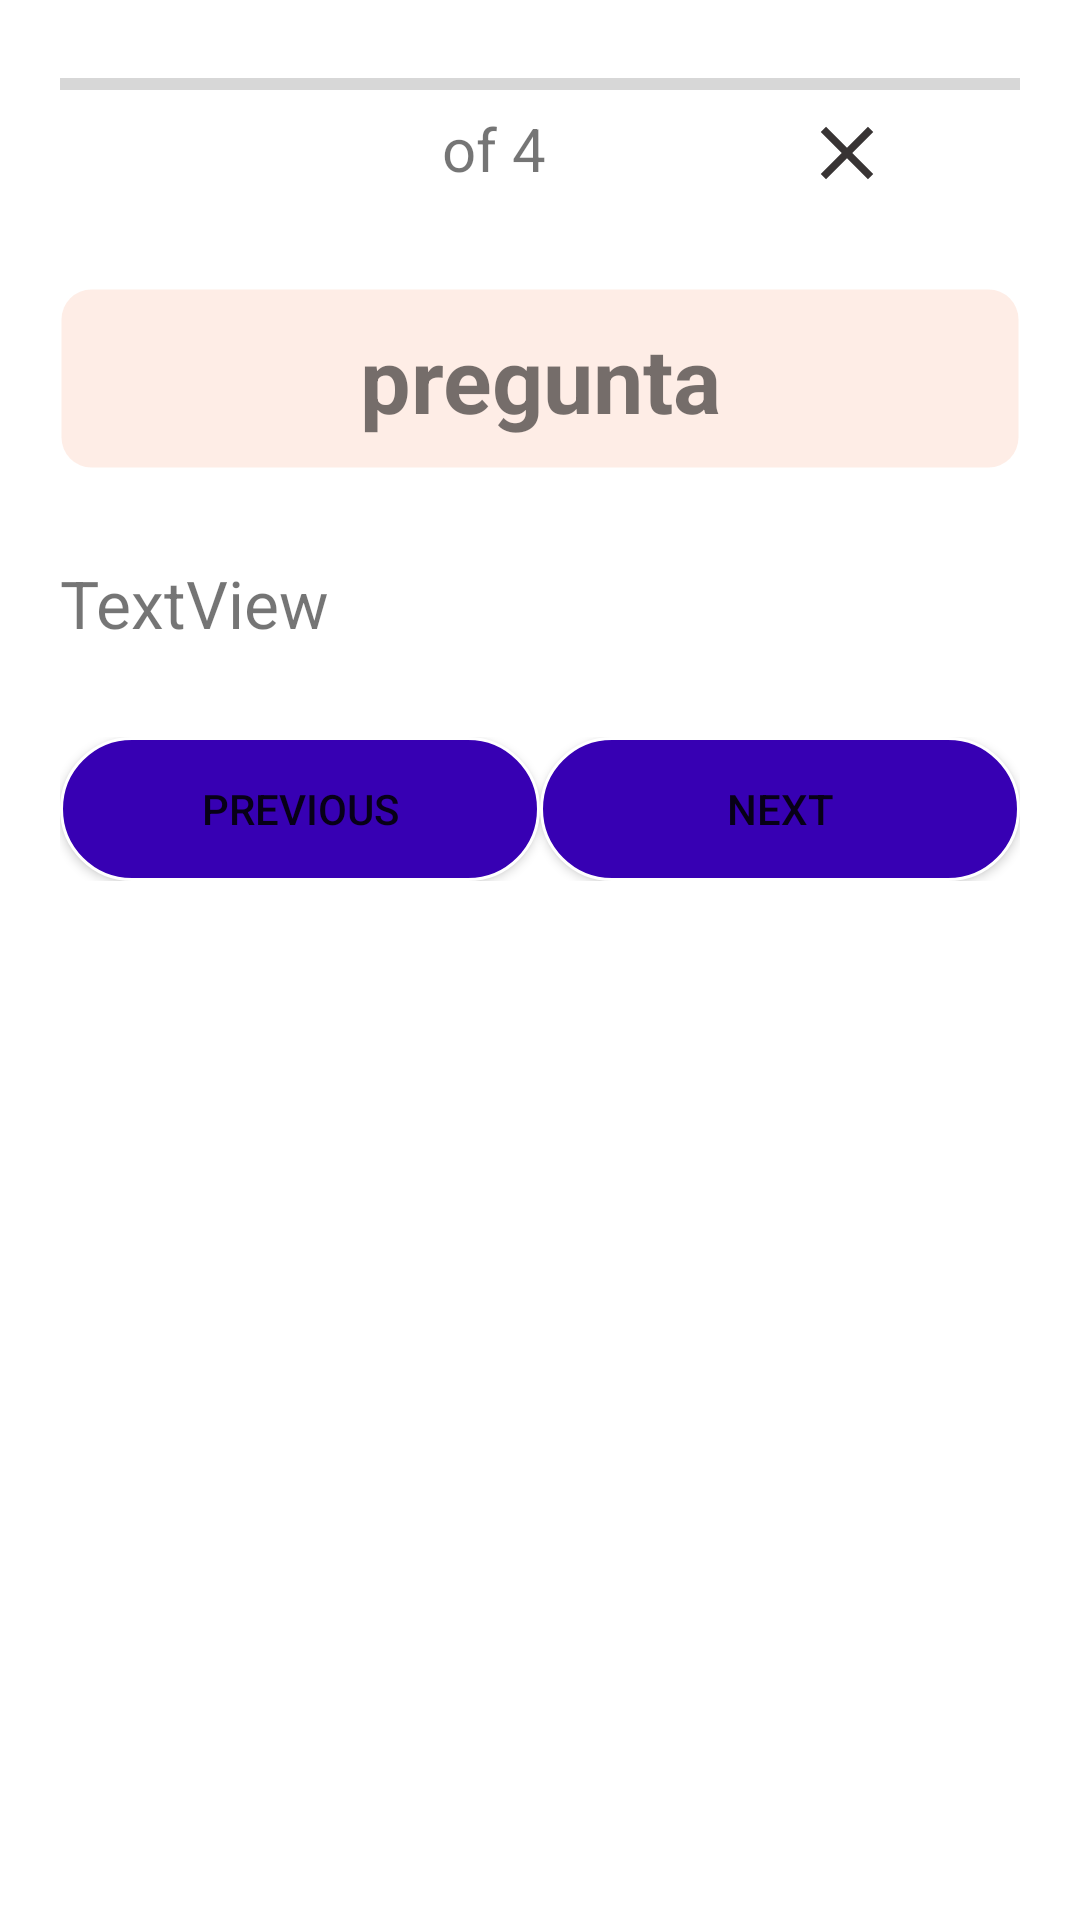

Locate icon controls on the screen. Image size 1080*1920, boxes as bbox(x1, y1, x2, y2).
close: bbox(821, 127, 873, 179)
